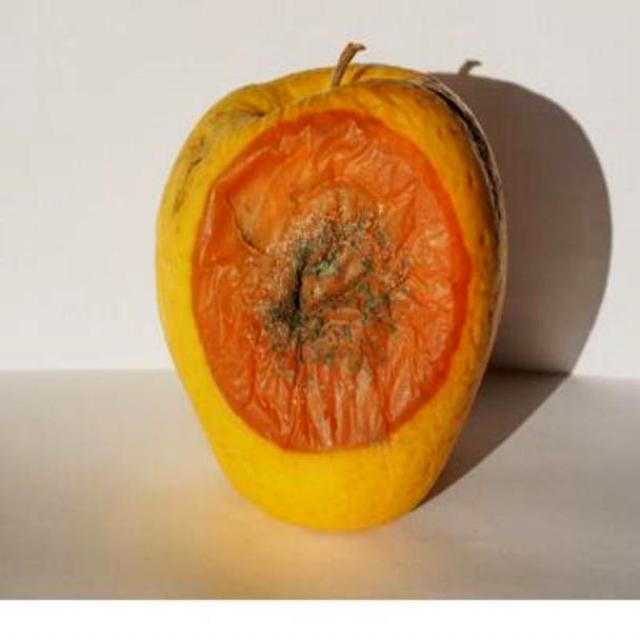ROT: (142, 58, 540, 538)
